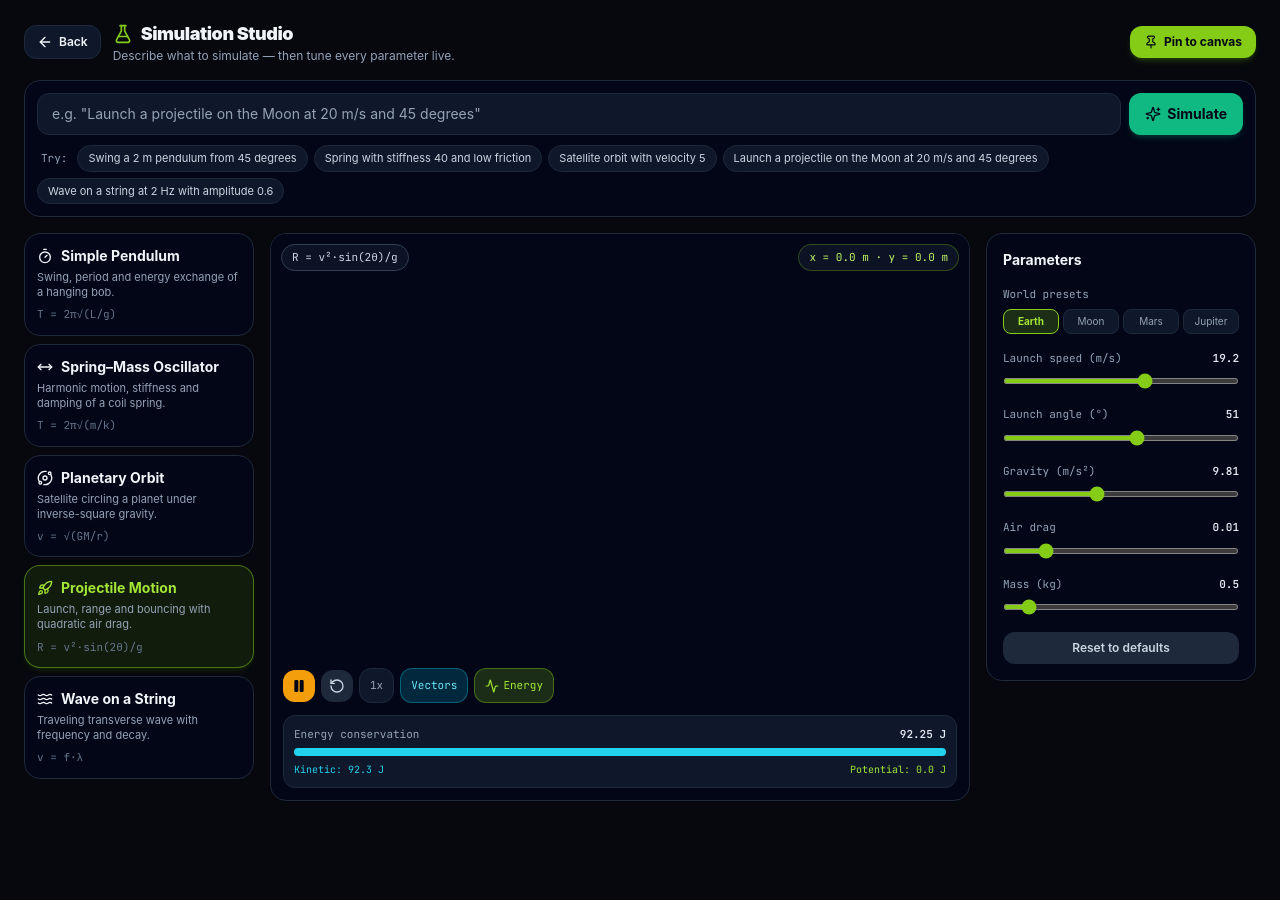
Test: SimulationStudio section › switches system from the gallery and resets the match note
Replace the text in the field with placeholder "Launch a projectile on the Moon" with "asdfgh qwerty" at (579, 114), box [37,93,1121,135]
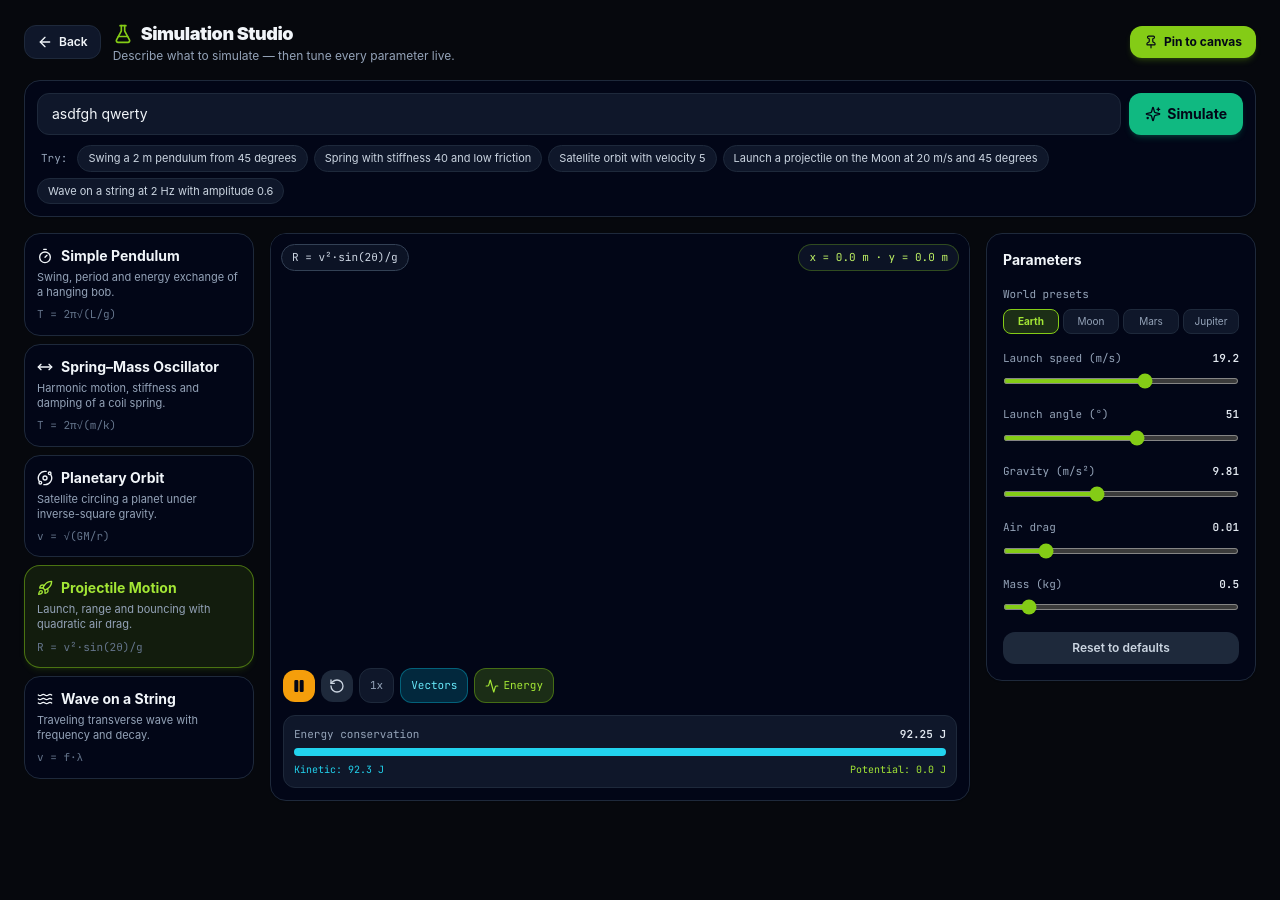
Click the button "Simulate" at (1186, 114), box [1129,93,1243,135]
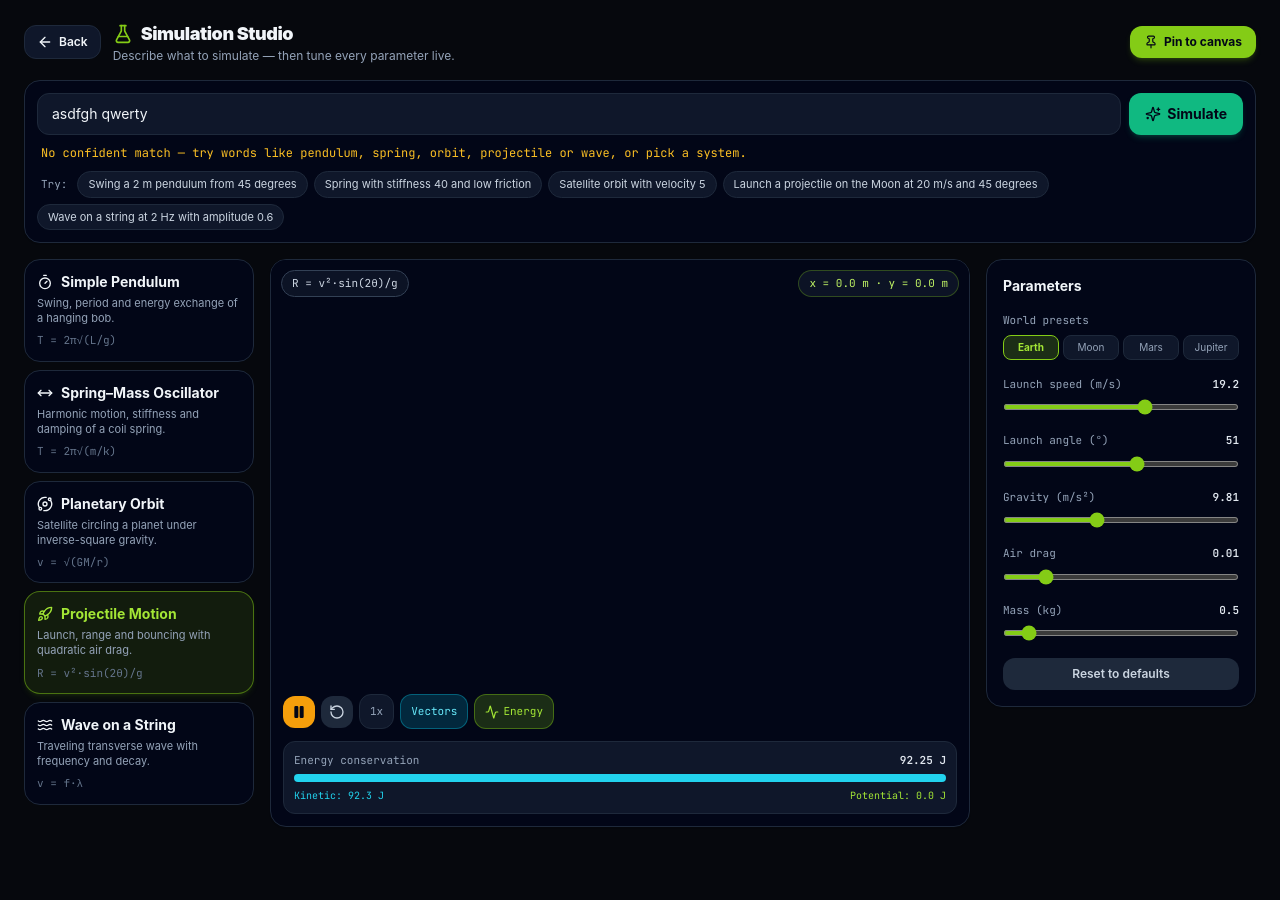
Now the text "No confident match" is shown, box [41,145,747,161]
Click the text "Simple Pendulum" at (108, 282), box [37,273,180,290]
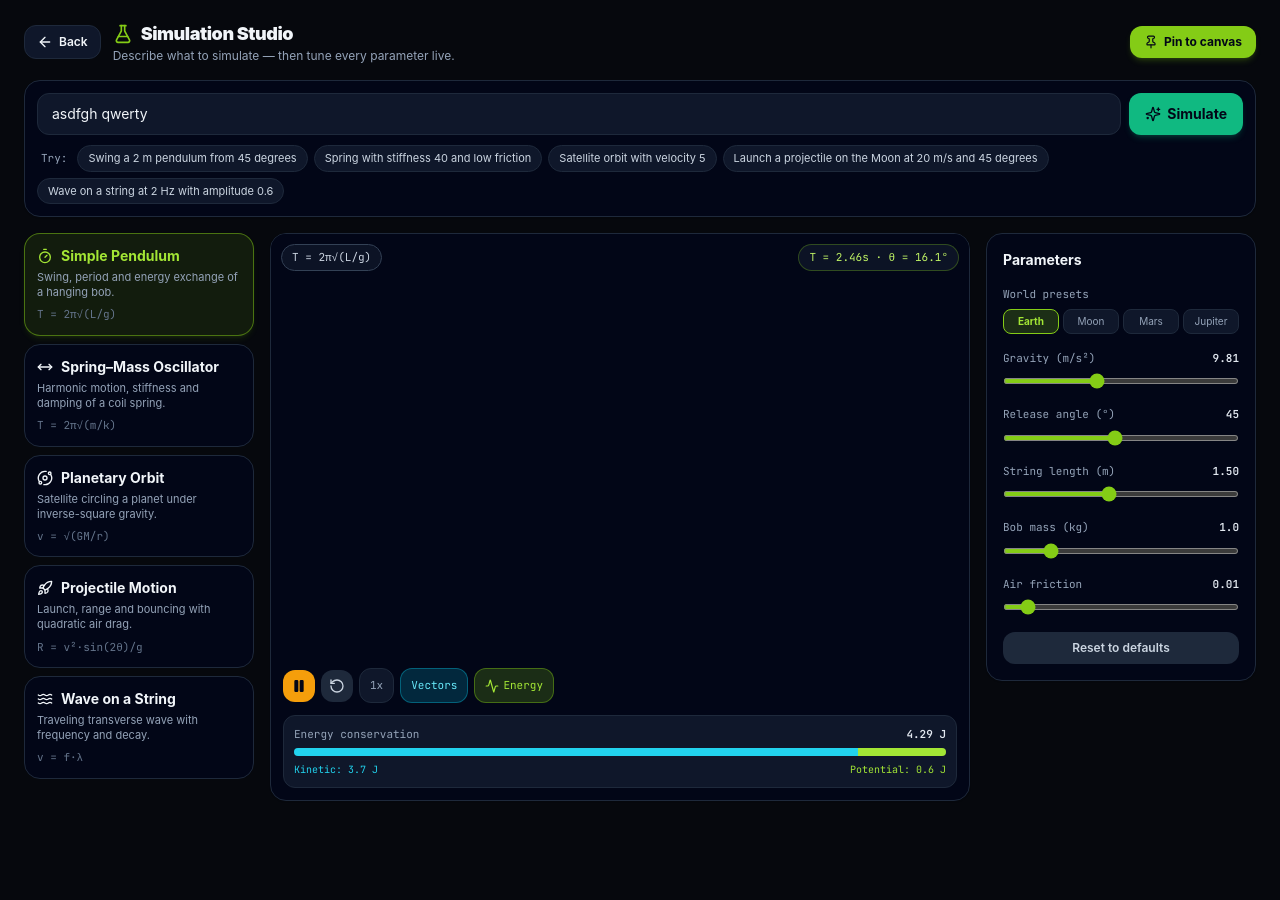
Now the text "No confident match" is gone
